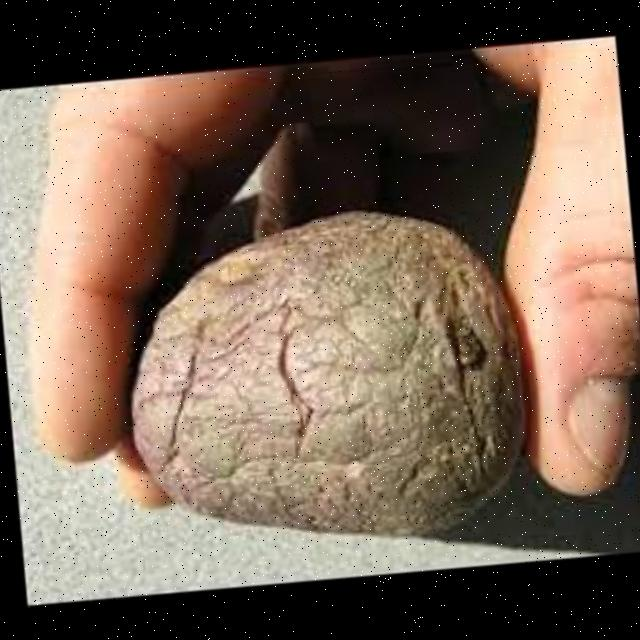Defected potato: (82, 169, 556, 572)
